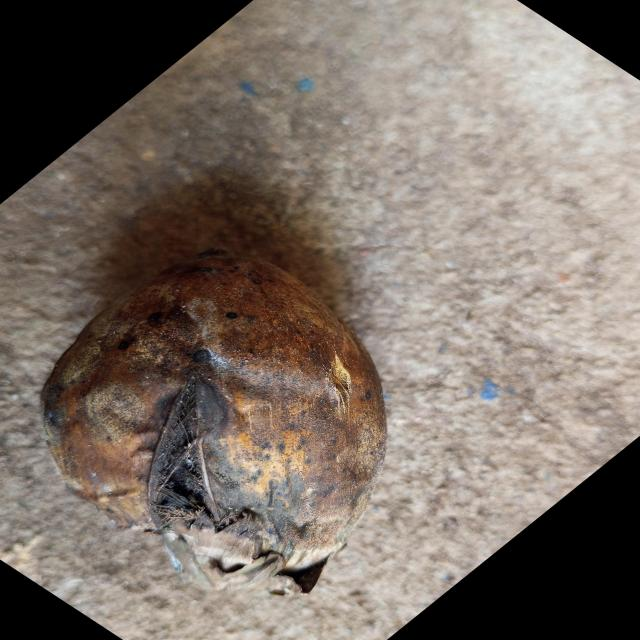damaged: (43, 249, 387, 595)
